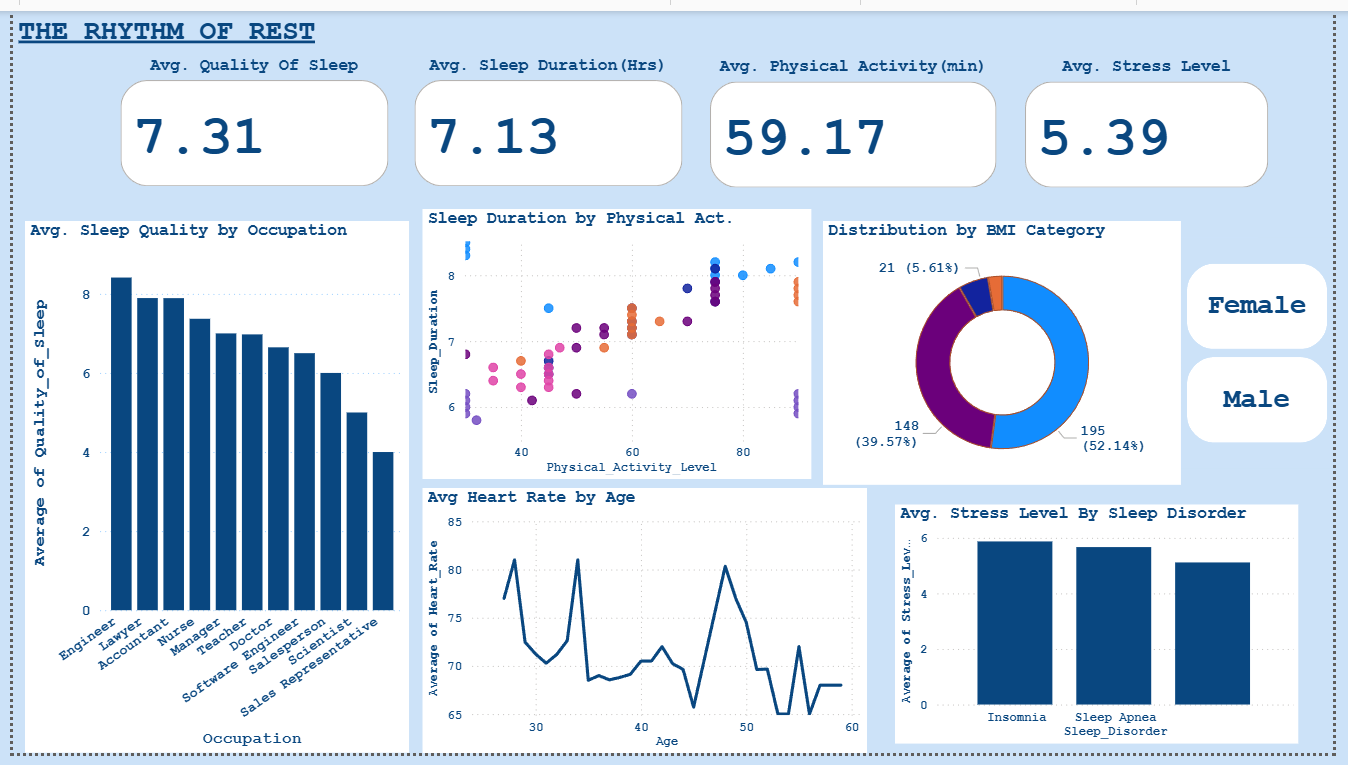

The page's visual inventory and layout, read from the dashboard file:
{"tool":"powerbi","page":{"name":"Page 1","canvas":[1280,720],"ordinal":0},"visuals":[{"type":"cardVisual","title":"Avg. Sleep Duration(Hrs)","fields":{"Data":["Avg(cleaned_sleep_data.Sleep_Duration)"]},"box":[383.7,44.2,270,131.1],"z":0},{"type":"cardVisual","title":"Avg. Quality Of Sleep","fields":{"Data":["Avg(cleaned_sleep_data.Quality_of_Sleep)"]},"box":[99.5,44.2,270,131.1],"z":1000},{"type":"cardVisual","title":"Avg. Physical Activity(min)","fields":{"Data":["Avg(cleaned_sleep_data.Physical_Activity_Level)"]},"box":[671.1,45.8,289,131.1],"z":2000},{"type":"advancedSlicerVisual","fields":{"Values":["cleaned_sleep_data.Gender"]},"box":[1133.7,219.5,146.8,224.2],"z":3000},{"type":"columnChart","title":"Avg. Sleep Quality by Occupation","fields":{"Category":["cleaned_sleep_data.Occupation"],"Y":["Avg(cleaned_sleep_data.Quality_of_Sleep)"]},"box":[11.1,203.7,372.6,516.3],"z":4000},{"type":"scatterChart","title":"Sleep Duration by Physical Act.","fields":{"X":["cleaned_sleep_data.Physical_Activity_Level"],"Y":["cleaned_sleep_data.Sleep_Duration"],"Series":["cleaned_sleep_data.Stress_Level"]},"box":[397.9,192.6,377.4,262.1],"z":5000},{"type":"donutChart","title":"Distribution by BMI Category","fields":{"Category":["cleaned_sleep_data.BMI_Category"],"Y":["CountNonNull(cleaned_sleep_data.Person_ID)"]},"box":[786.3,203.7,347.4,255.8],"z":6000},{"type":"lineChart","title":"Avg Heart Rate by Age","fields":{"Category":["cleaned_sleep_data.Age"],"Y":["Avg(cleaned_sleep_data.Heart_Rate)"]},"box":[397.9,462.6,431.1,257.4],"z":7000},{"type":"columnChart","title":"Avg. Stress Level By Sleep Disorder","fields":{"Category":["cleaned_sleep_data.Sleep_Disorder"],"Y":["Avg(cleaned_sleep_data.Stress_Level)"]},"box":[855.8,478.4,391.6,232.1],"z":8000},{"type":"cardVisual","title":"Avg.  Stress Level","fields":{"Data":["Avg(cleaned_sleep_data.Stress_Level)"]},"box":[977.4,45.8,246.3,131.1],"z":9000},{"type":"textbox","box":[0,0,1280.5,44.2],"z":10000}]}

Visuals, with their boxes in screenshot pixels (x1, y1, x2, y2), scaled from the page's 1280x720 canvas onto the 1348x765 screenshot:
"Avg. Sleep Duration(Hrs)" cardVisual: select_region(404, 47, 688, 186)
"Avg. Quality Of Sleep" cardVisual: select_region(105, 47, 389, 186)
"Avg. Physical Activity(min)" cardVisual: select_region(707, 49, 1011, 188)
advancedSlicerVisual - cleaned_sleep_data.Gender: select_region(1194, 233, 1347, 471)
"Avg. Sleep Quality by Occupation" columnChart: select_region(12, 216, 404, 764)
"Sleep Duration by Physical Act." scatterChart: select_region(419, 205, 816, 483)
"Distribution by BMI Category" donutChart: select_region(828, 216, 1194, 488)
"Avg Heart Rate by Age" lineChart: select_region(419, 492, 873, 764)
"Avg. Stress Level By Sleep Disorder" columnChart: select_region(901, 508, 1314, 755)
"Avg.  Stress Level" cardVisual: select_region(1029, 49, 1289, 188)
textbox: select_region(0, 0, 1347, 47)
